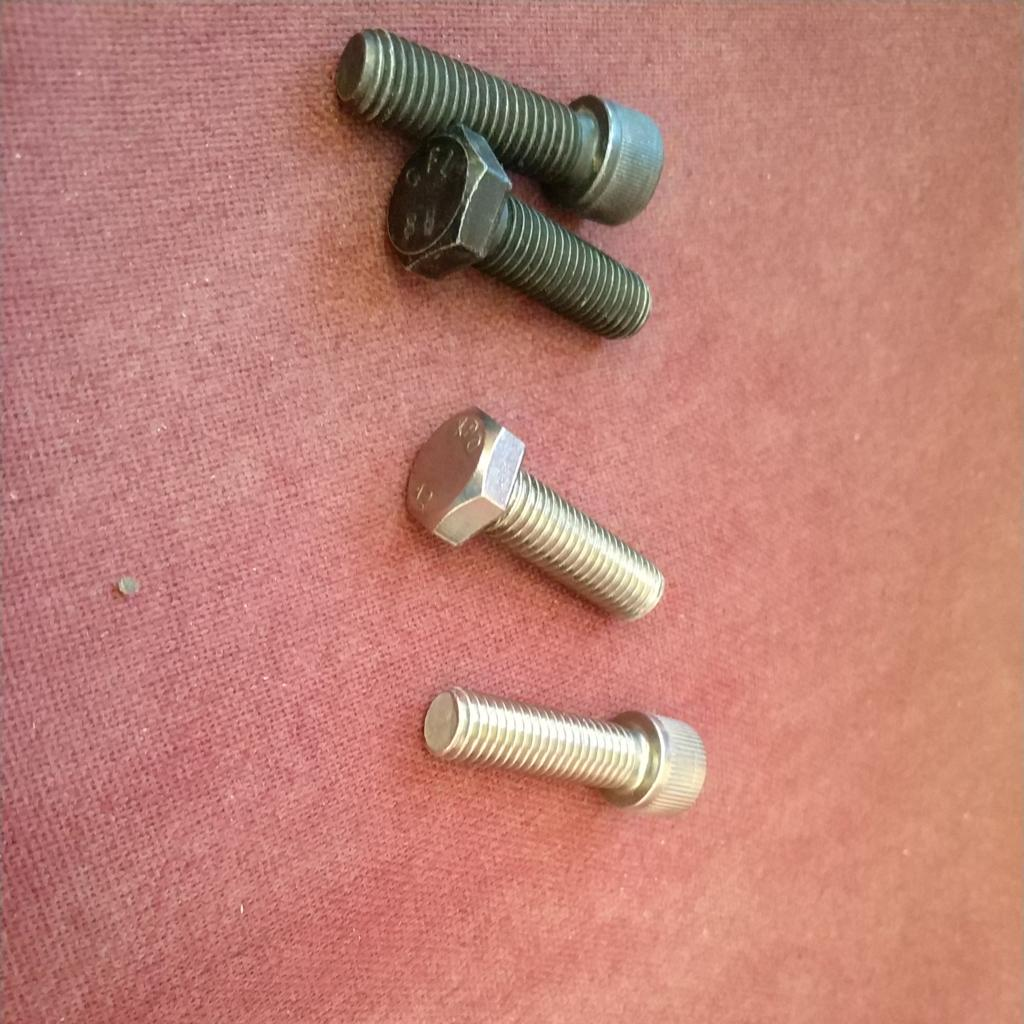screwtype1black: (317, 21, 682, 227)
screwtype1silver: (418, 682, 727, 824)
screwtype2black: (387, 117, 654, 366)
screwtype2silver: (393, 403, 673, 636)
